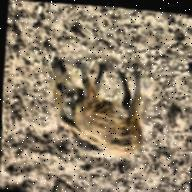boar: (44, 63, 157, 154)
